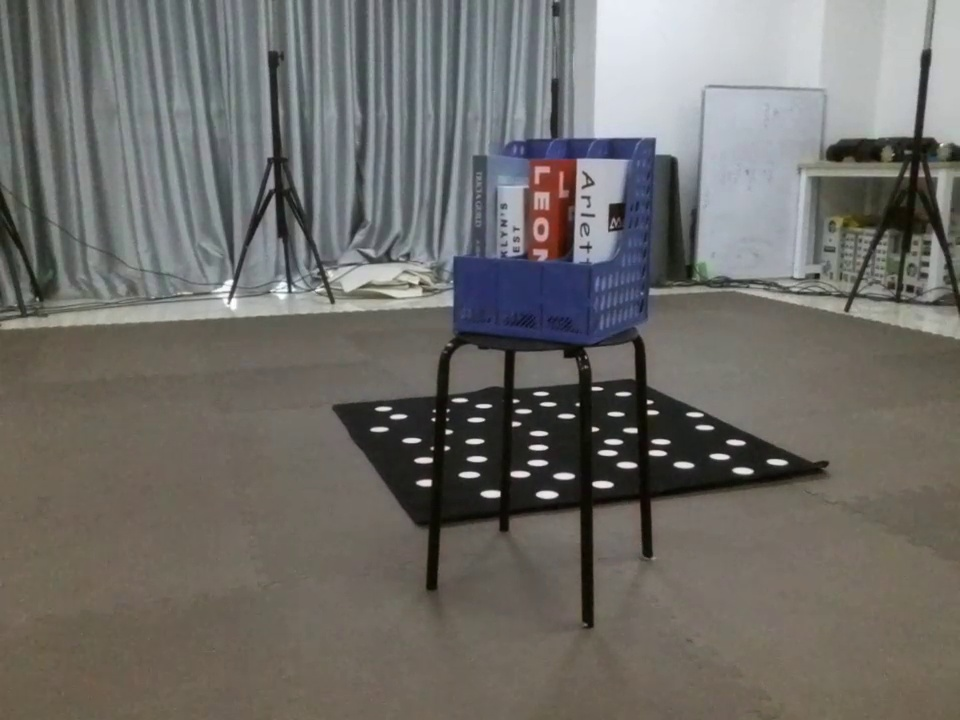files: (447, 129, 665, 351)
